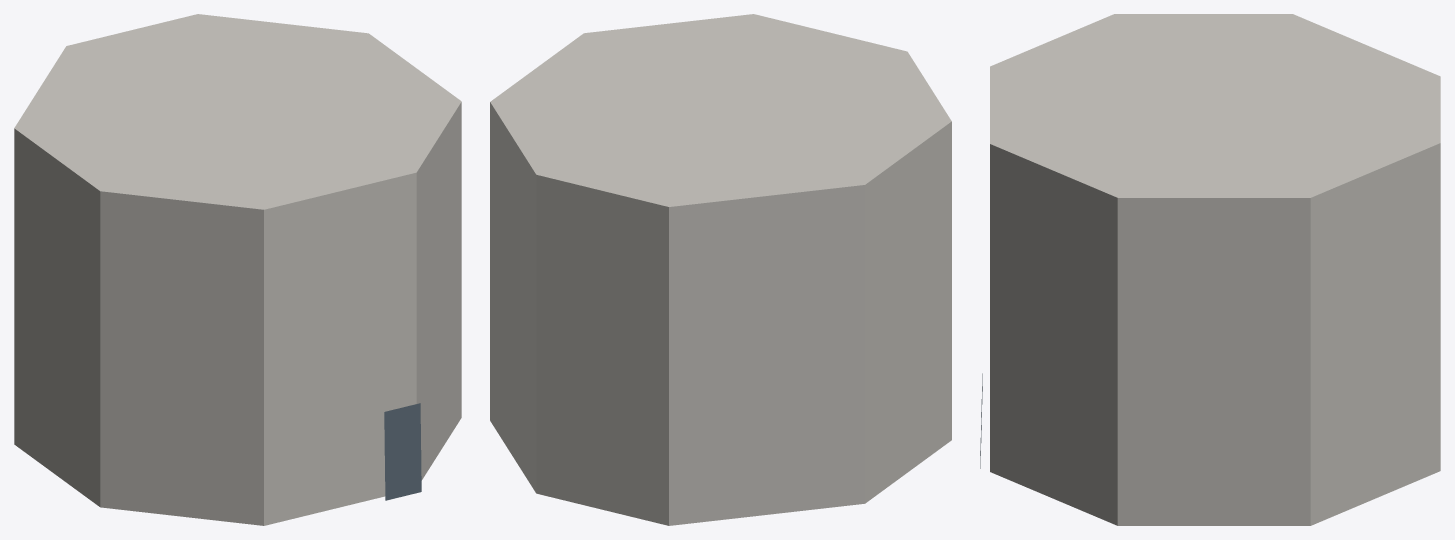
File: loin-etape-1.glb
3 renders of one model, left to right at view 1: azimuth 30°, elevation 25°; view 2: azimuth 150°, elevation 25°; view 3: azimuth 270°, elevation 25°, orthographic. The views are drawn at different scales.
Parts seen in each view (by area): view 1: loin; view 2: loin; view 3: loin.
Part boxes in pixels (bbox=[...]): loin: bbox=[14, 14, 461, 525]; loin: bbox=[490, 14, 951, 525]; loin: bbox=[980, 14, 1440, 525].
Bounding box in the file's own units: 0.6192 × 0.5151 × 0.6548.
